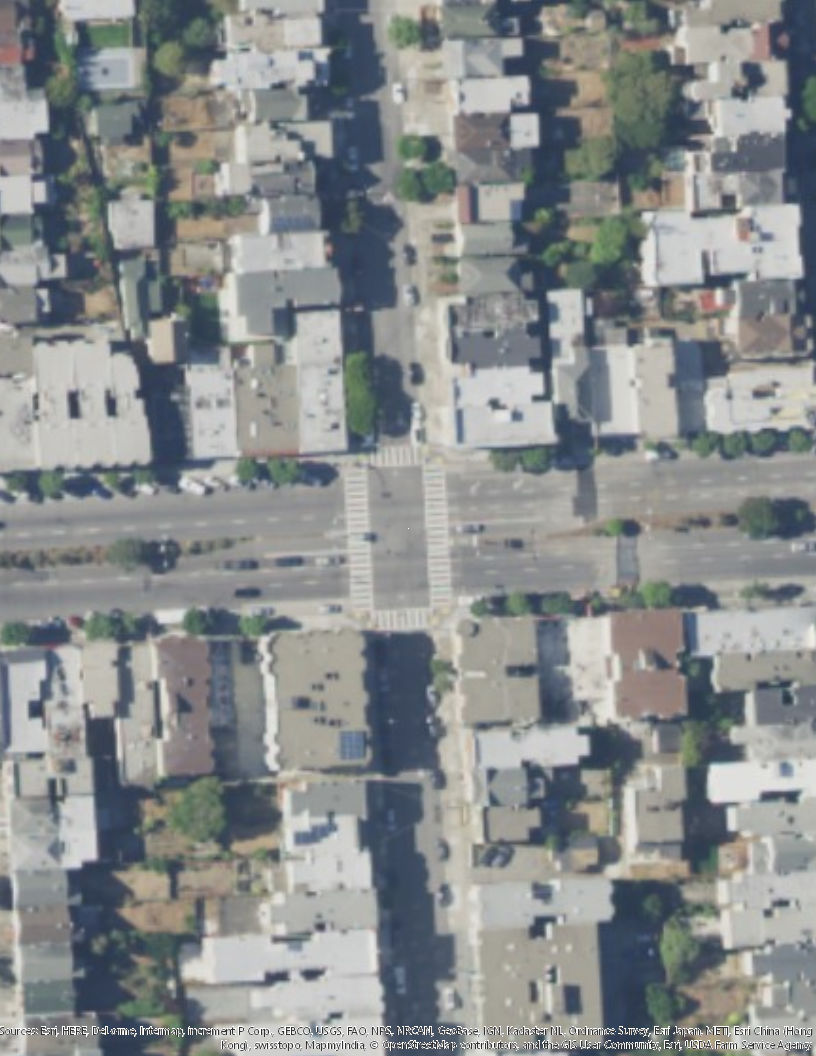zebracross: (342, 467, 375, 609), (423, 467, 456, 606), (371, 603, 435, 633), (370, 444, 431, 465)
